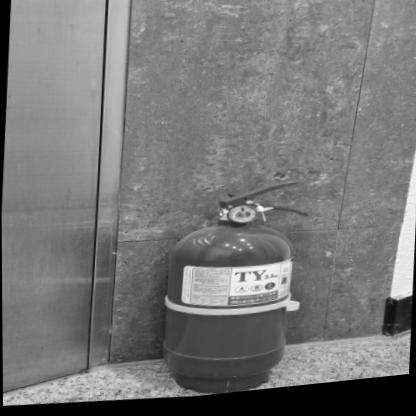FE: (156, 179, 308, 403)
